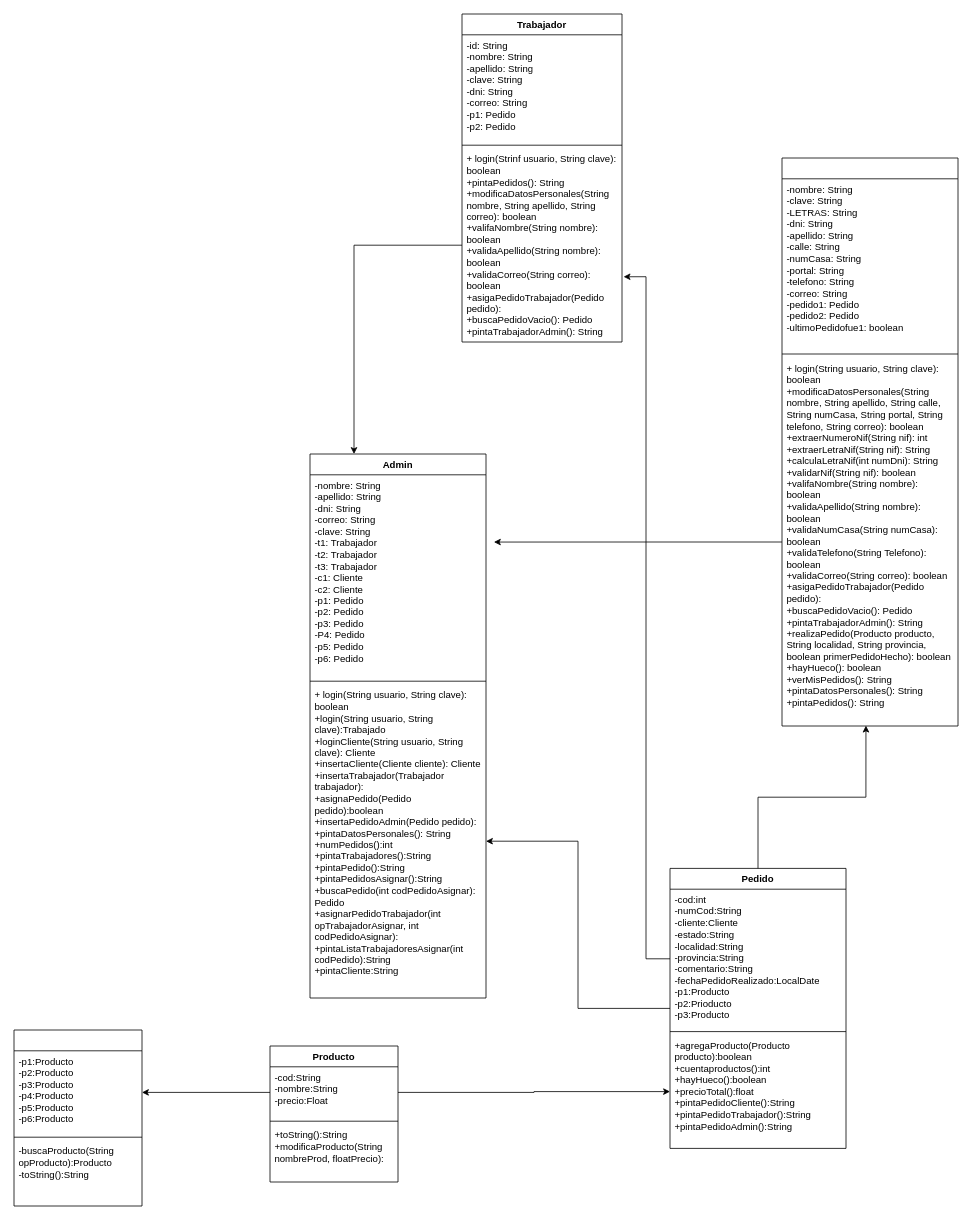
This 972x1222 diagram has some shape labels left out. Here are the shapes that lost their labels. From the top down, the box of each, then its label:
(781, 157, 958, 726): Cliente
(13, 1029, 142, 1206): Catalogo
